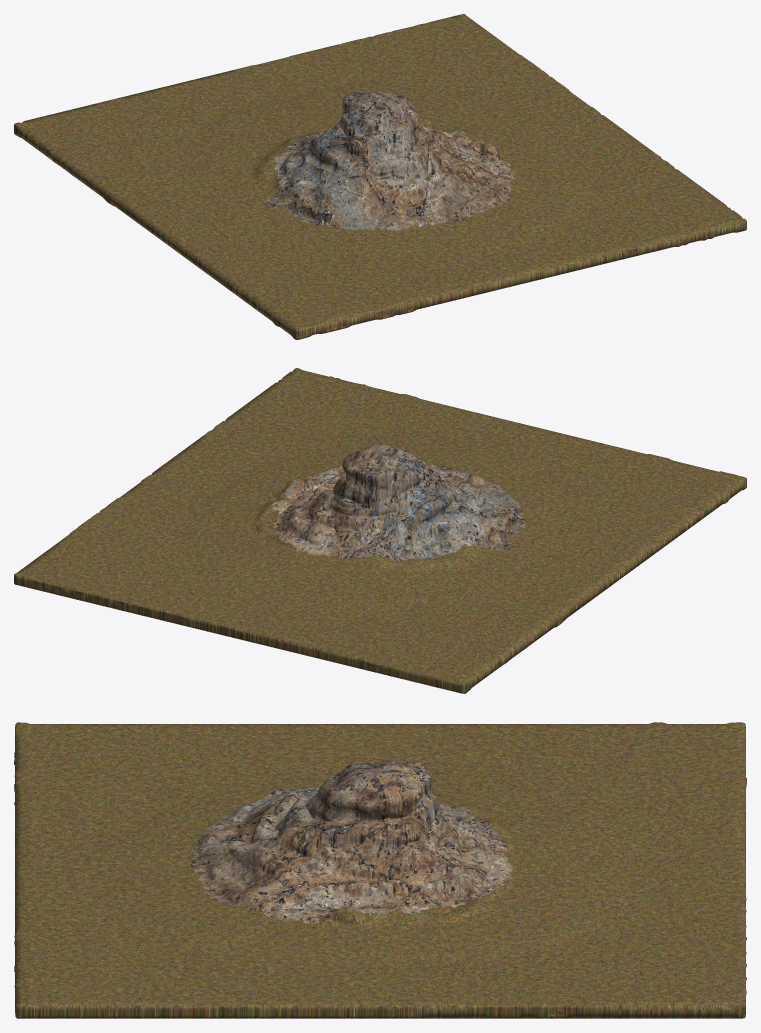
File: bukit isolasi.fbx
3 views of the same model, one above another, from view 1: azimuth 30°, elevation 25°; view 2: azimuth 150°, elevation 25°; view 3: azimuth 270°, elevation 25° (orthographic). The views are drawn at different scales.
Visible parts, largest first — view 1: bukit isolasi_Baked; view 2: bukit isolasi_Baked; view 3: bukit isolasi_Baked.
Part boxes in pixels (x1=…): bukit isolasi_Baked: x1=14, y1=14, x2=746, y2=339; bukit isolasi_Baked: x1=14, y1=368, x2=746, y2=693; bukit isolasi_Baked: x1=14, y1=722, x2=746, y2=1018.
Bounding box in the file's own units: 5587 × 1014 × 6069.
Materials: 1 (1 with a texture image).
